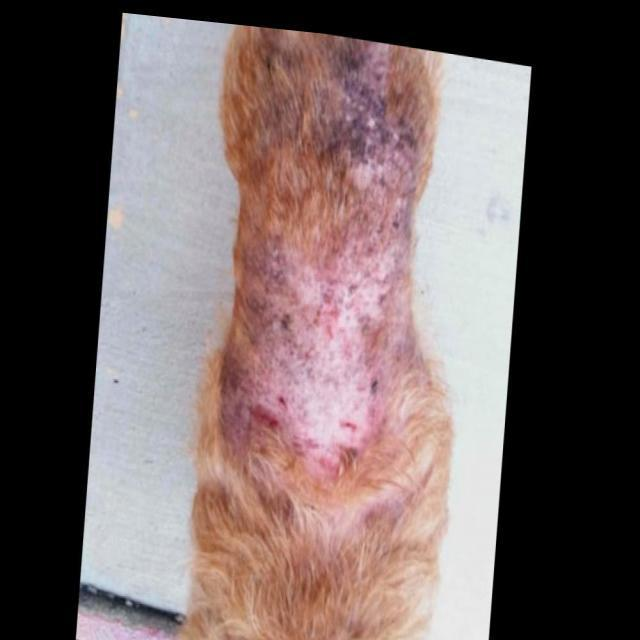allergic dermatitis: (233, 42, 416, 513)
